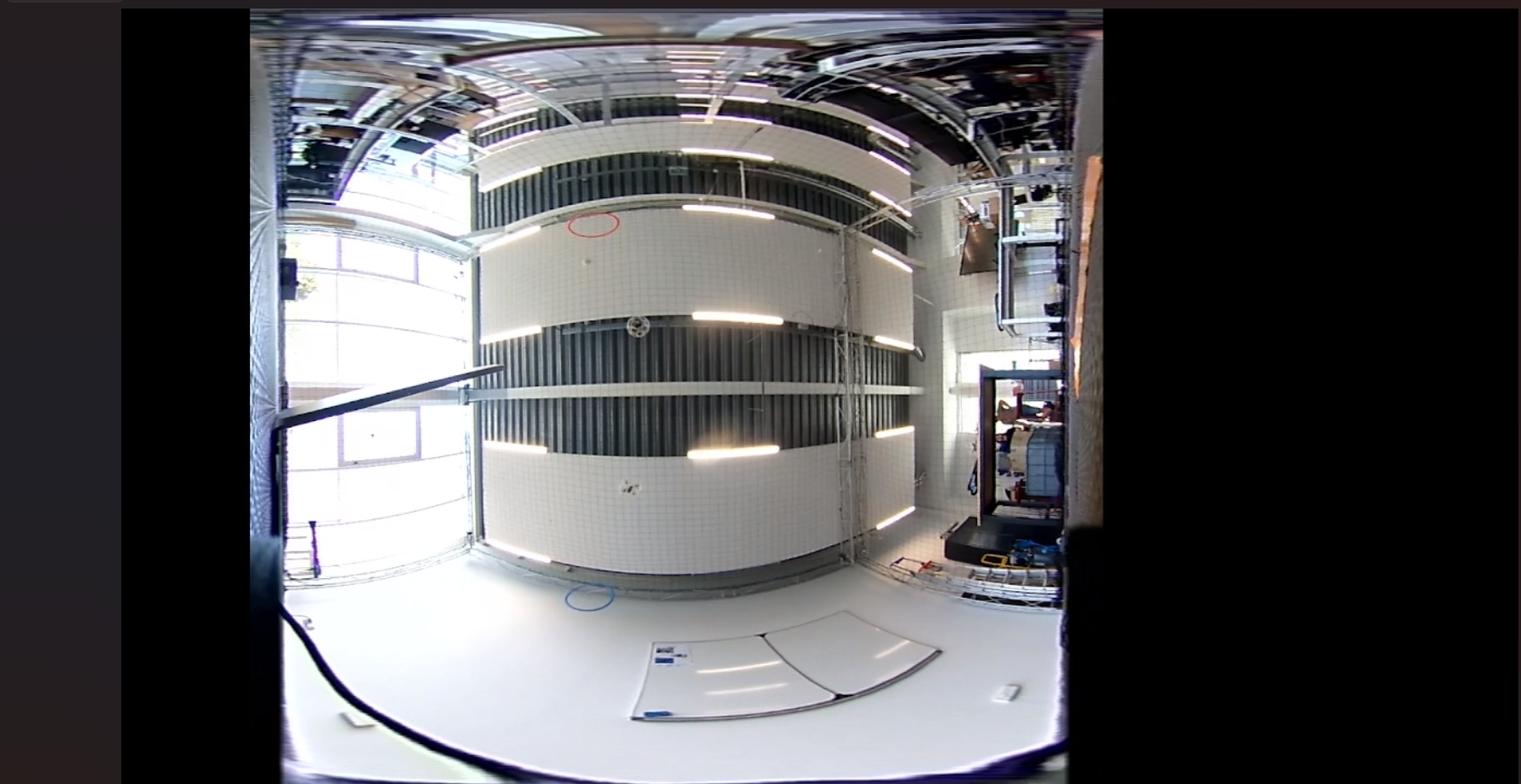Drone: (624, 313, 650, 340), (616, 476, 644, 499)
